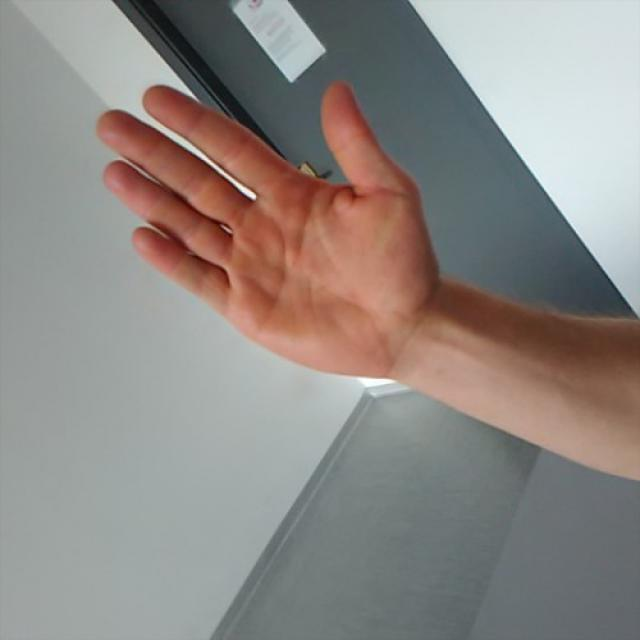paper: (94, 80, 416, 378)
